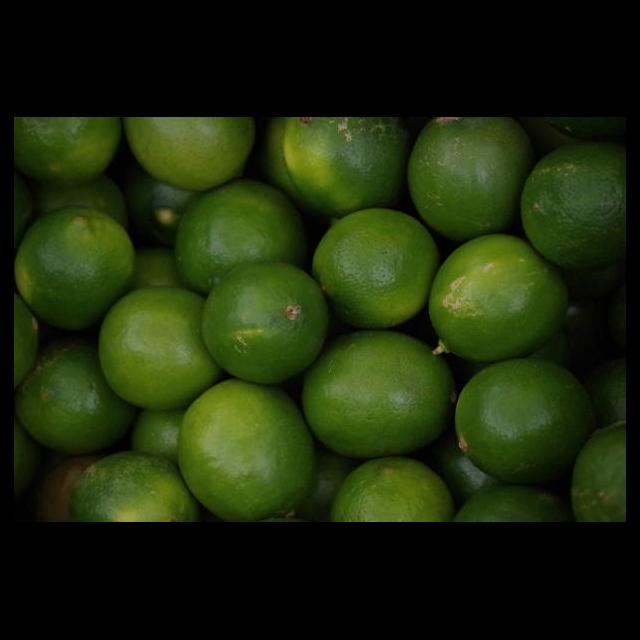lime: (177, 380, 318, 522), (429, 234, 569, 368), (284, 118, 411, 220)
